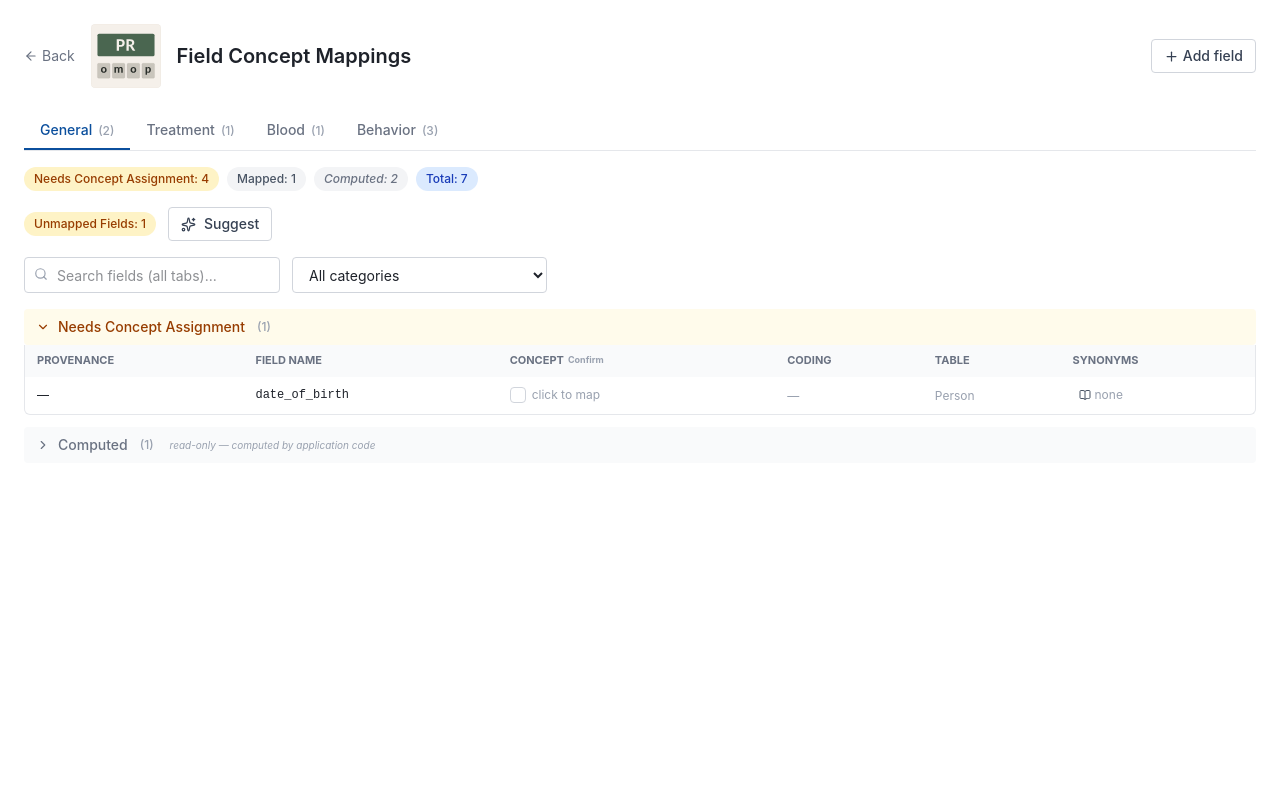
Test case: FieldMappingPage › switches tabs and shows relevant fields
Expected: the heading "Field Concept Mappings" is shown, [177, 42, 411, 70]
Click the button "Behavior(3)" at {"x": 398, "y": 131}, box [341, 112, 454, 150]
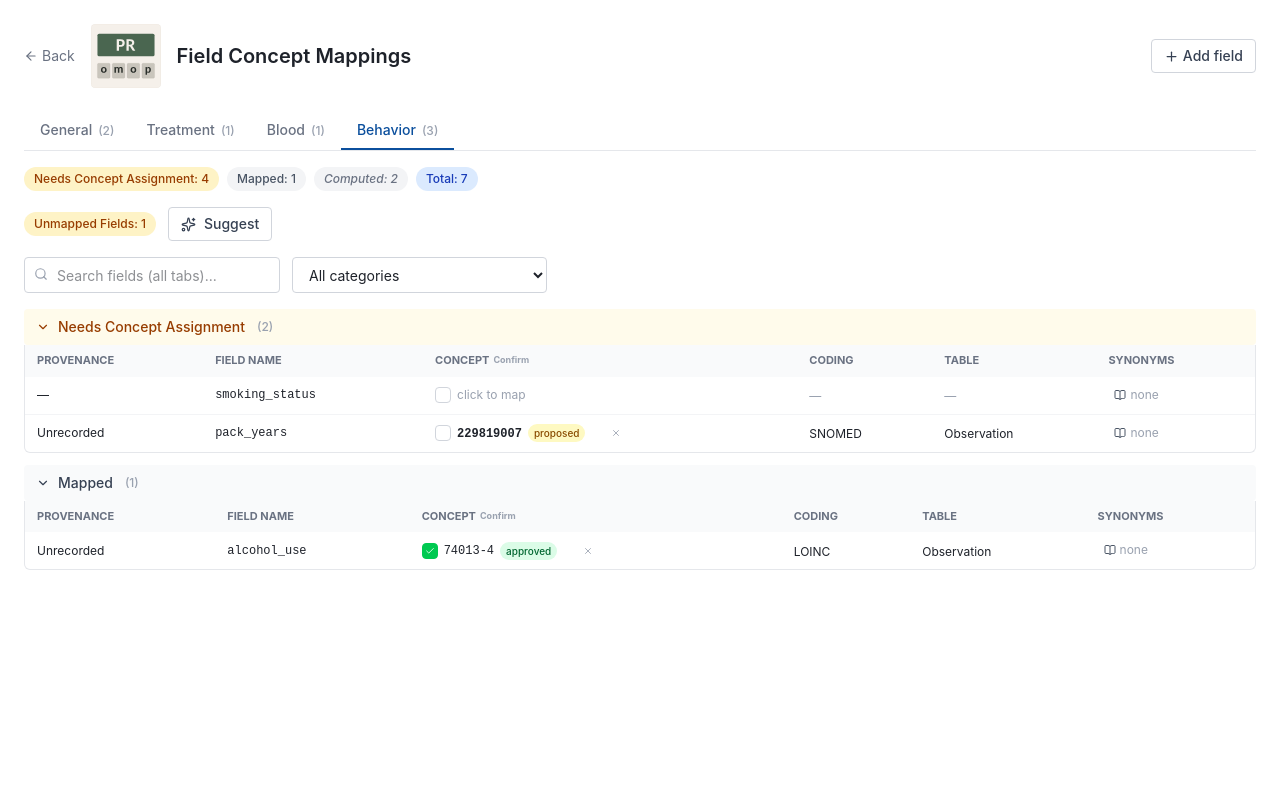
Result: the text "smoking_status" is shown at [203, 377, 423, 414]
Result: the text "pack_years" is shown at [203, 414, 423, 452]
